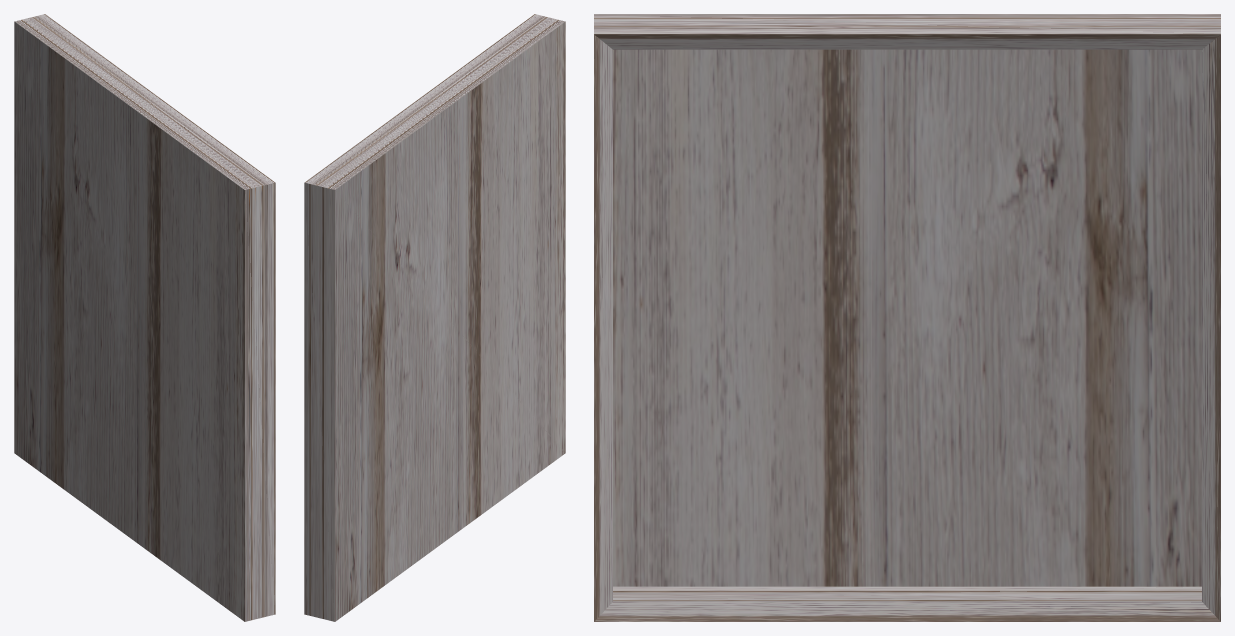
File: frame.glb
3 renders of one model, left to right at view 1: azimuth 30°, elevation 25°; view 2: azimuth 150°, elevation 25°; view 3: azimuth 270°, elevation 25°, orthographic. The views are drawn at different scales.
Visible parts, largest first — view 1: Object_3; view 2: Object_3; view 3: Object_3.
Boxes of the visible parts, left/top/right/bottom form: Object_3: left=14, top=14, right=275, bottom=621; Object_3: left=304, top=14, right=565, bottom=621; Object_3: left=594, top=14, right=1220, bottom=621.
Bounding box in the file's own units: 0.18 × 2.42 × 2.34.
1 material, 1 textured.
